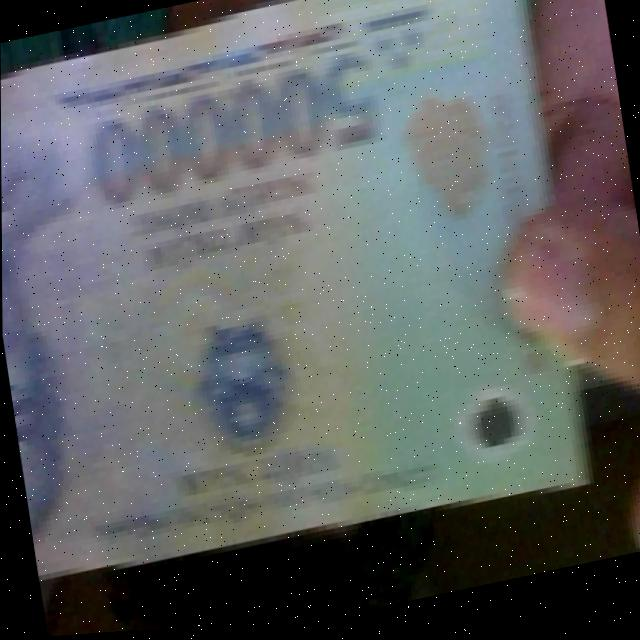500 000 VND: (0, 0, 610, 613)
